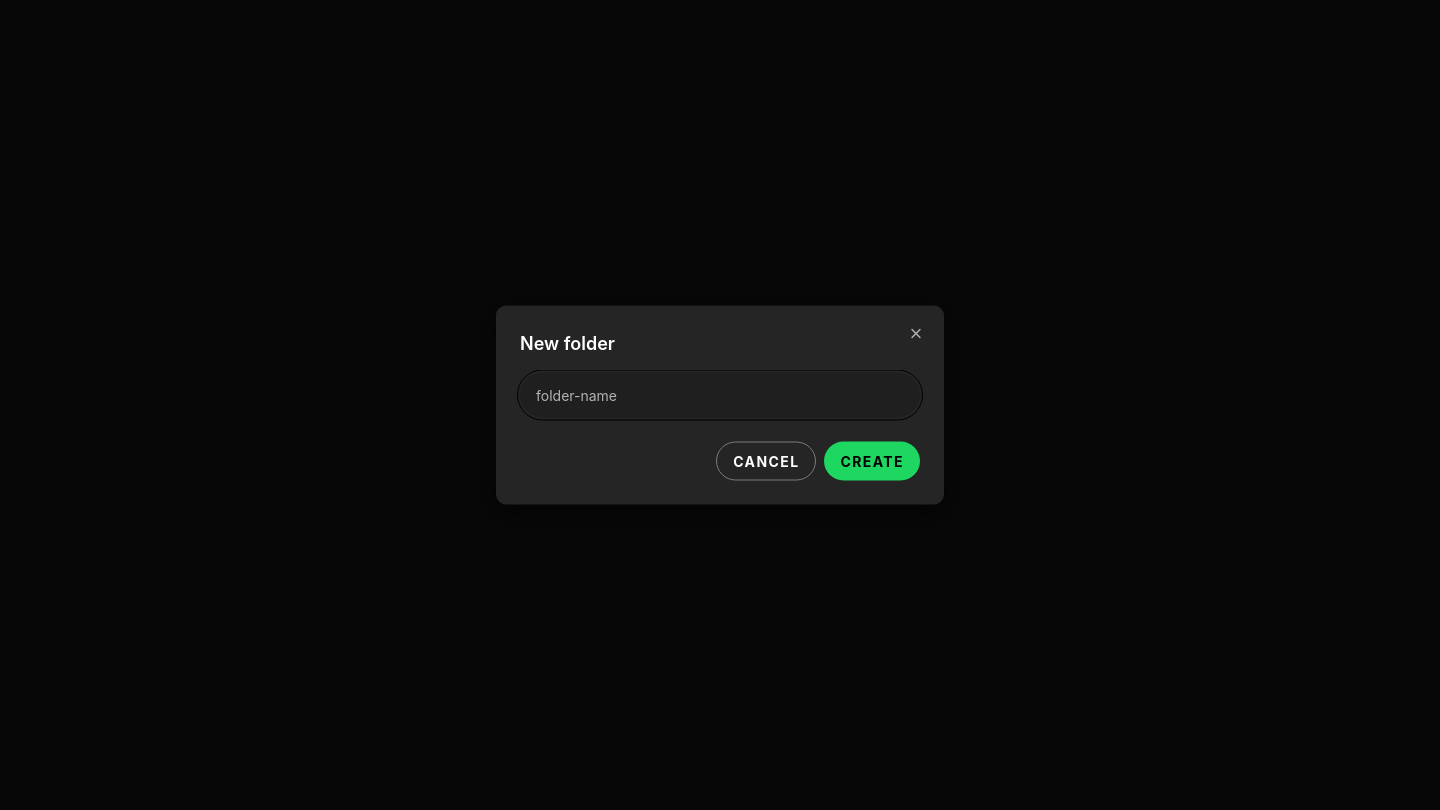
NewEntryDialog › shows inline error message from ApiError
Type "bar" into the field.
click(720, 395); type("bar")  # box [520,372,920,418]
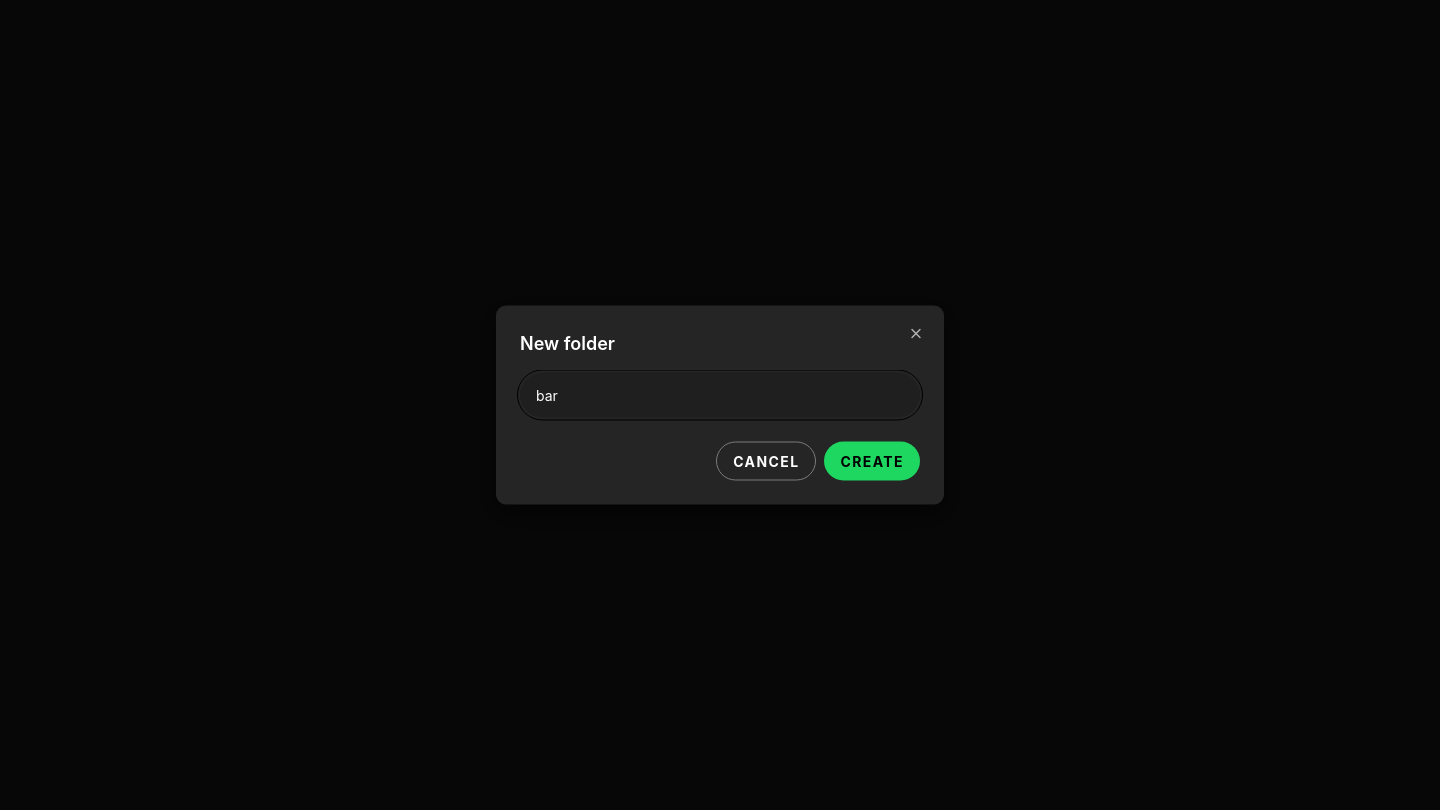
Click the button "Create".
click(872, 461)  # box [824,442,920,480]
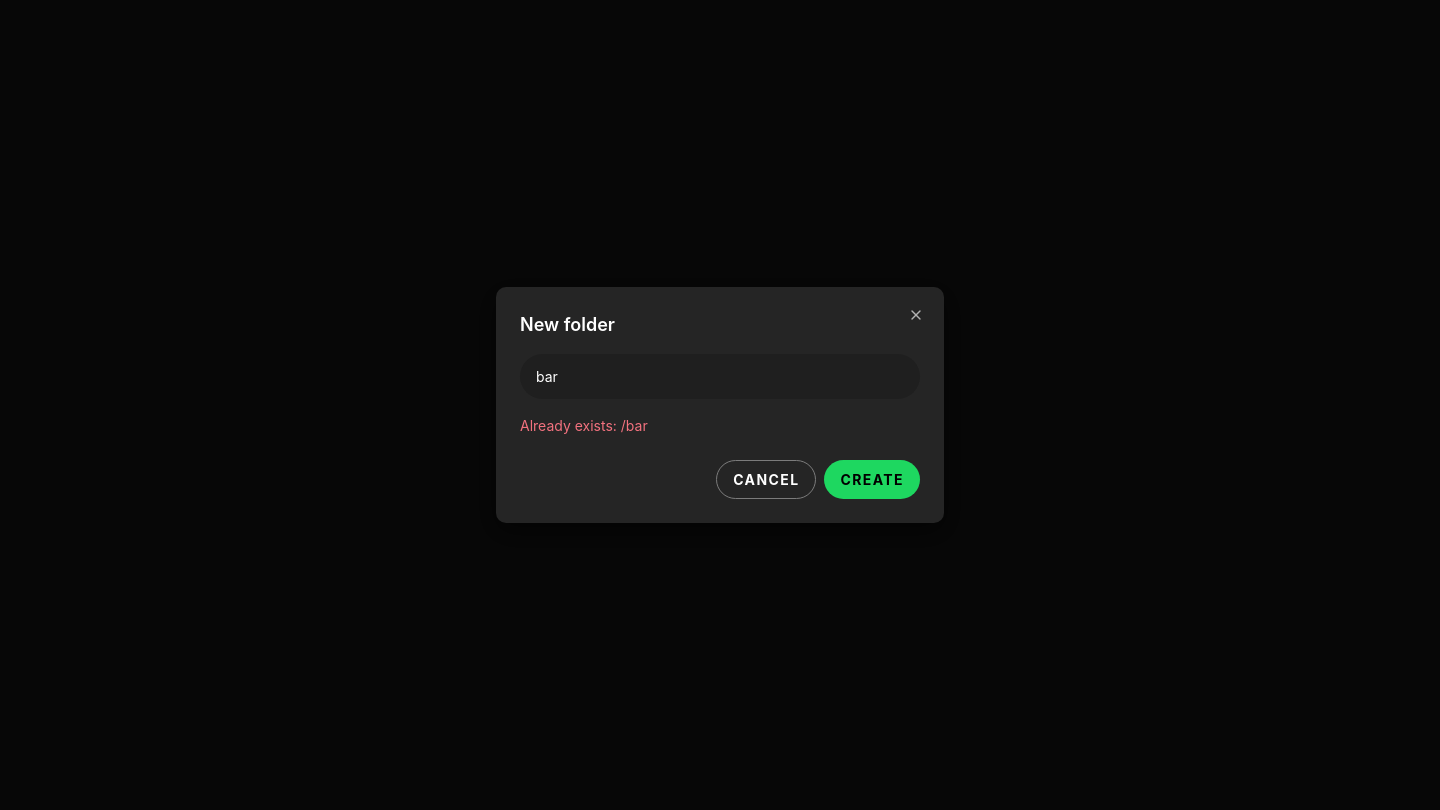
expect the text "Already exists: /bar" is shown: met, box [520,417,648,434]
